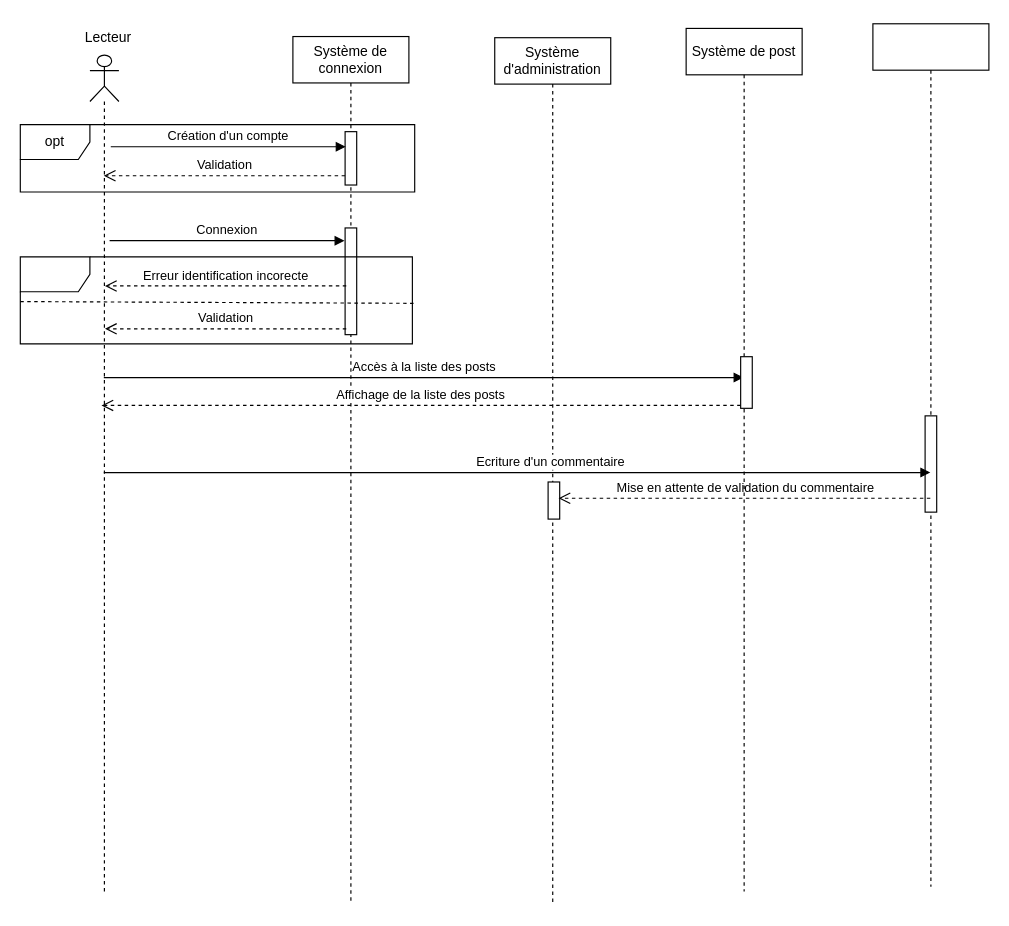
Image size: 1009x926. Some labels were removed from this diagram. The centre of each missing label's shape, as x and y in pixels:
alt: [215,300]
Système de commentaire: [930,455]
